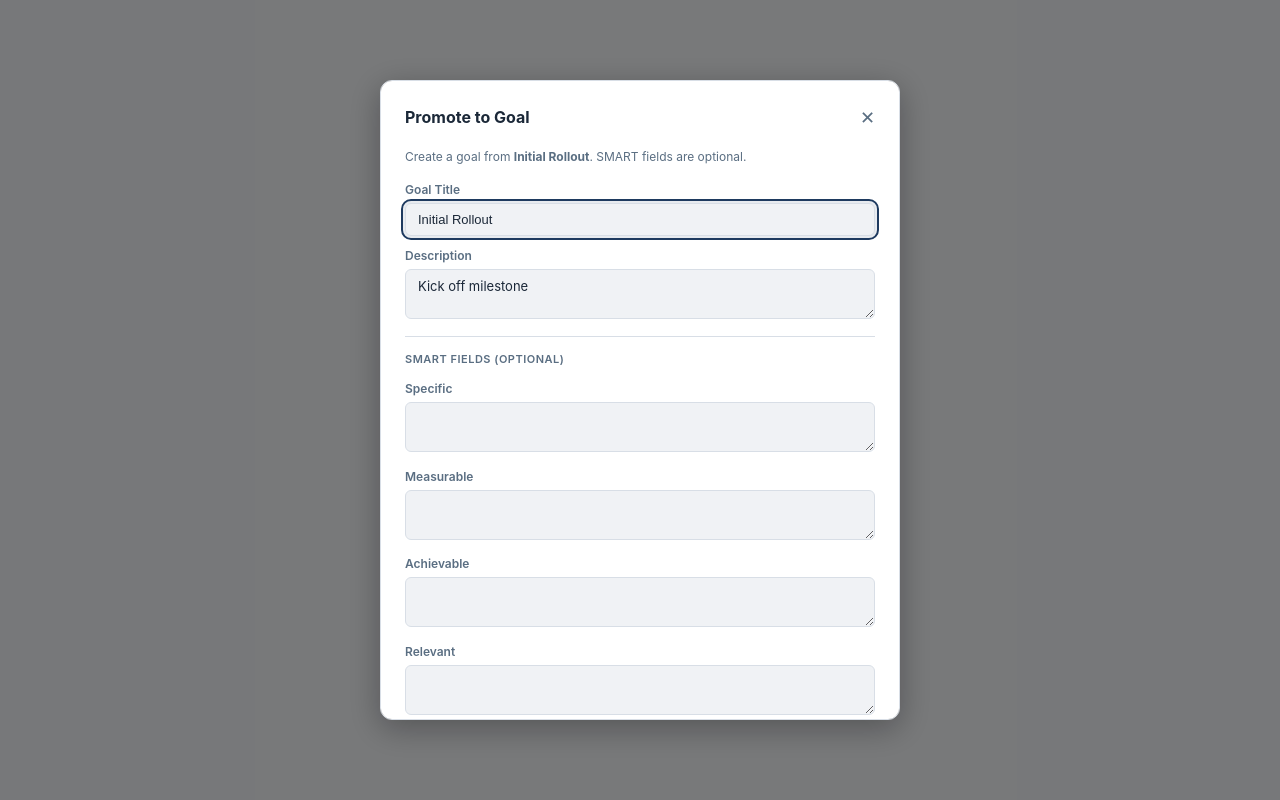
Test: PromoteToGoal — dirty-state close guard (Task 9.14) › Cancel from the confirm dialog keeps the modal open
The width and height of the screenshot is (1280, 800).
Replace the text in the field named "Goal title" with "Extended goal title" at {"x": 640, "y": 220}, box [405, 203, 875, 236]
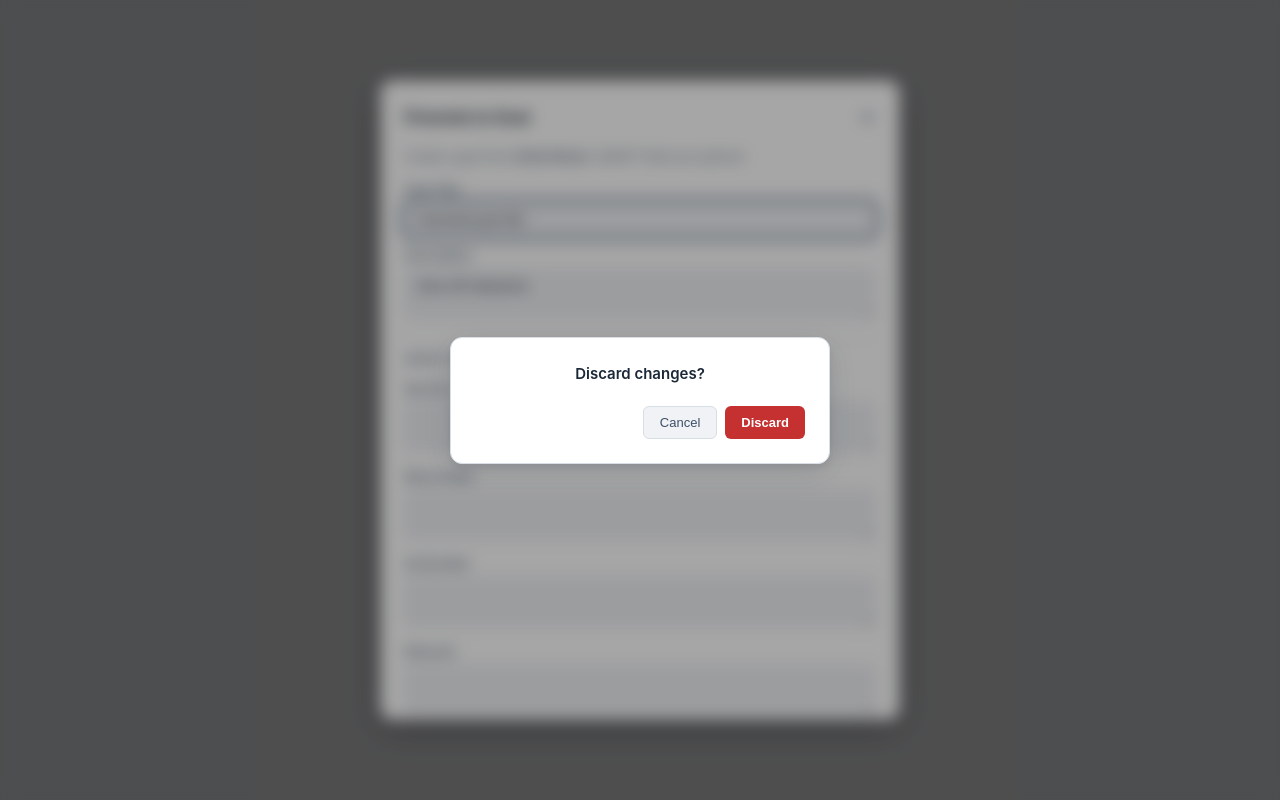
Click the button "Cancel" at {"x": 680, "y": 422}, box [643, 406, 717, 438]
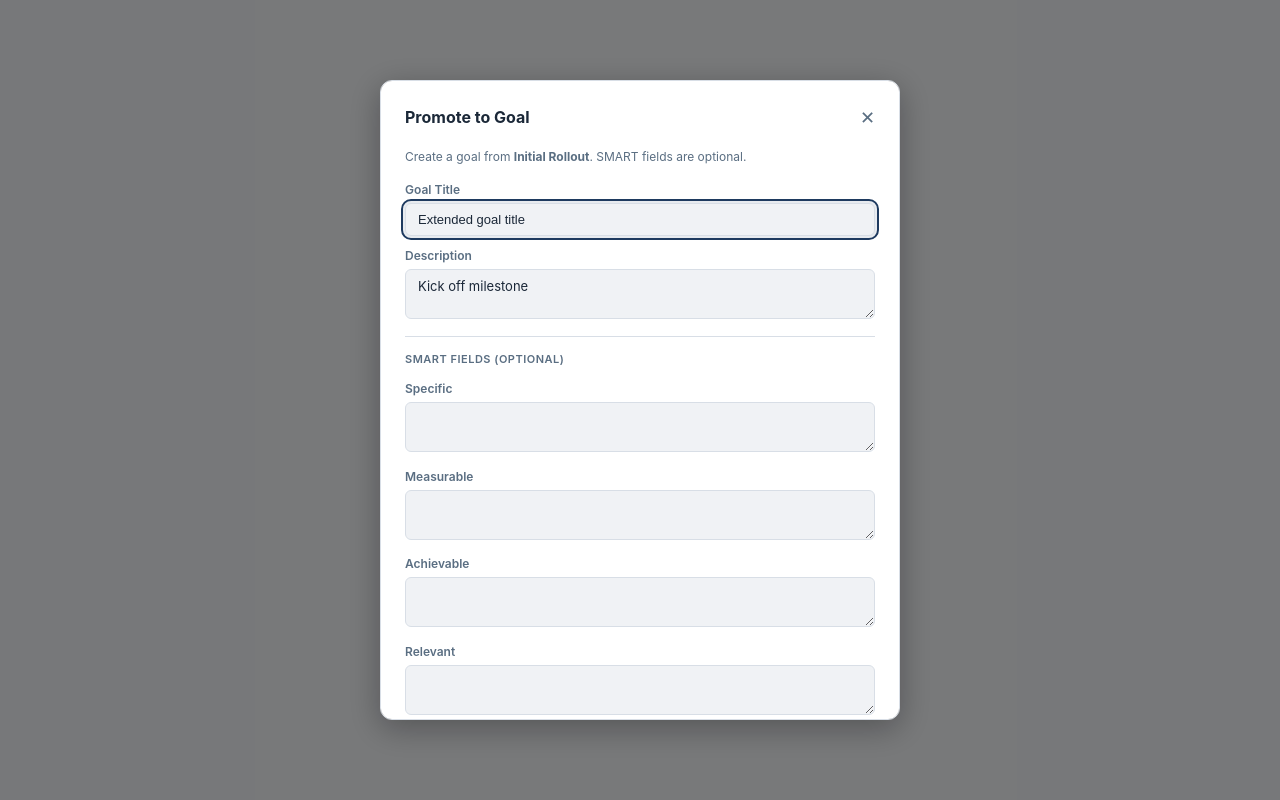
Expected: the text "Discard changes" is gone
